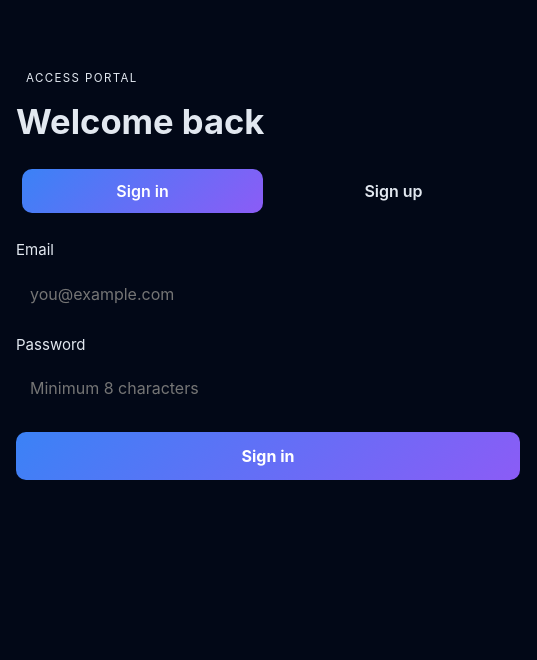
Test case: AuthPage › clears stale errors when switching authentication modes
Type "ada@example.com" into the field with placeholder "you@example.com" at (268, 294), box [16,270,520,318]
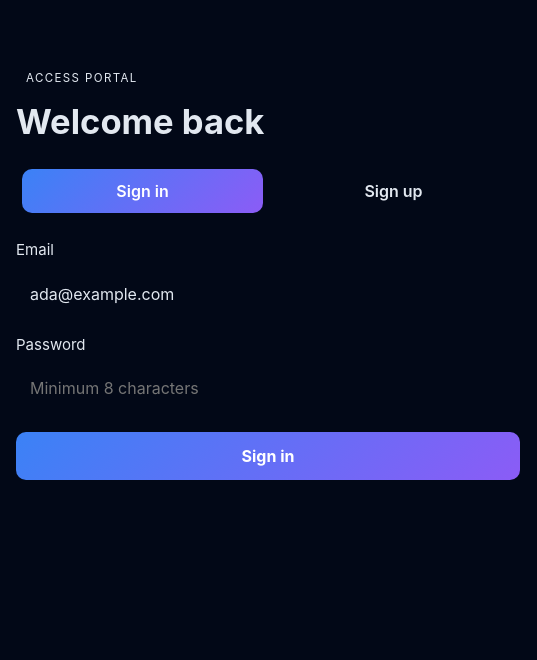
Type "WrongPassword!" into the password field with placeholder "Minimum 8 characters" at (268, 388), box [16,364,520,412]
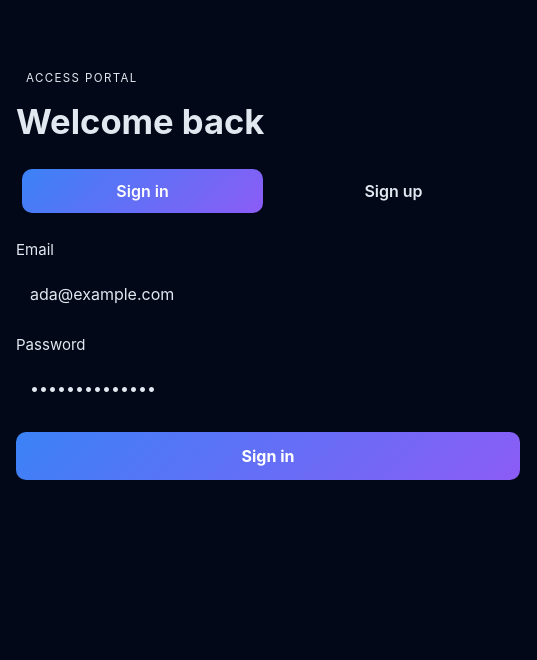
Click the button "Sign in" below "Password" at (268, 456), box [16,432,520,480]
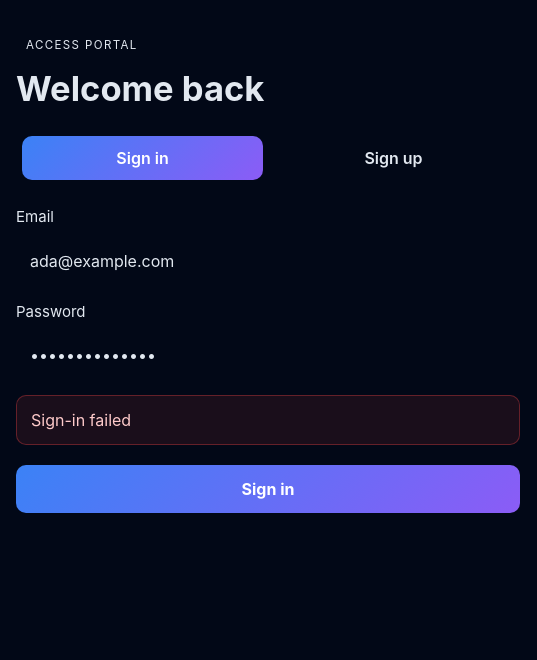
expect the text "Sign-in failed" is shown: met, box [16,395,520,445]
Click the button "Sign up" at (394, 158), box [273,136,514,180]
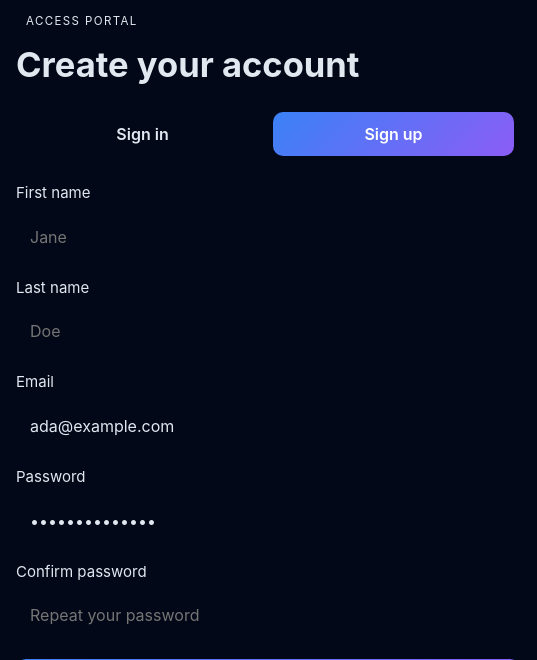
expect the text "Sign-in failed" is gone: met
